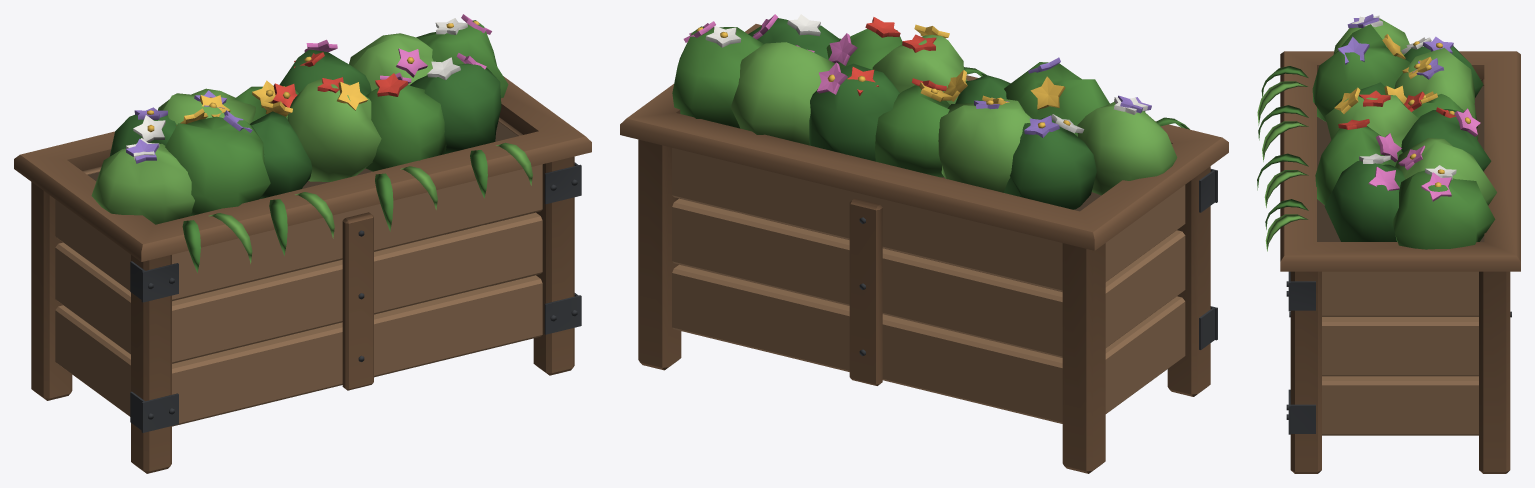
The model's file is planterBox.glb.
3 renders of one model, left to right at view 1: azimuth 30°, elevation 25°; view 2: azimuth 150°, elevation 25°; view 3: azimuth 270°, elevation 25°, orthographic. The views are drawn at different scales.
Visible parts, largest first — view 1: planterBox; view 2: planterBox; view 3: planterBox.
Part boxes in pixels (x1=…): planterBox: x1=14, y1=14, x2=591, y2=473; planterBox: x1=620, y1=14, x2=1228, y2=473; planterBox: x1=1257, y1=14, x2=1520, y2=473.
Size of the model in its own units: 0.94 by 0.6233 by 0.5044.
